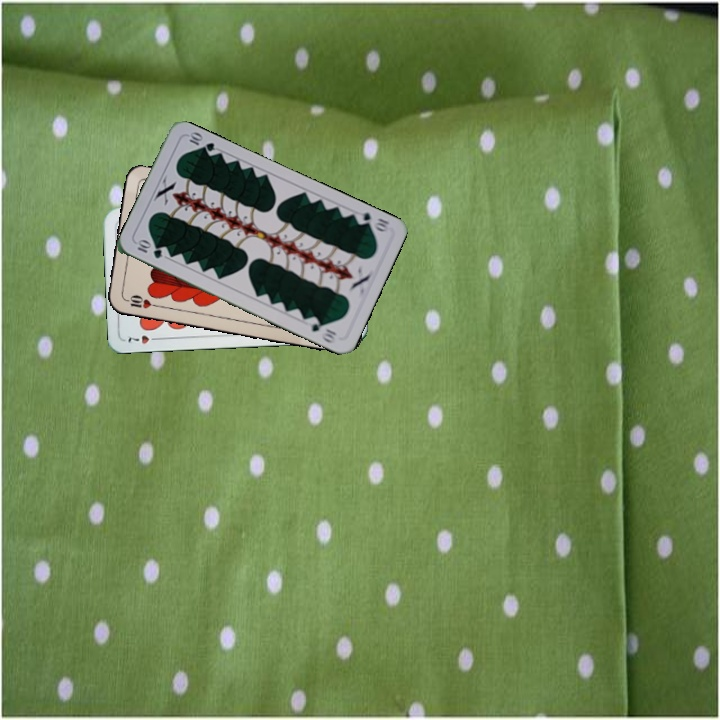G10: (351, 208, 392, 235), (132, 236, 165, 261)
H10: (120, 291, 160, 311)
H7: (124, 331, 163, 346)
